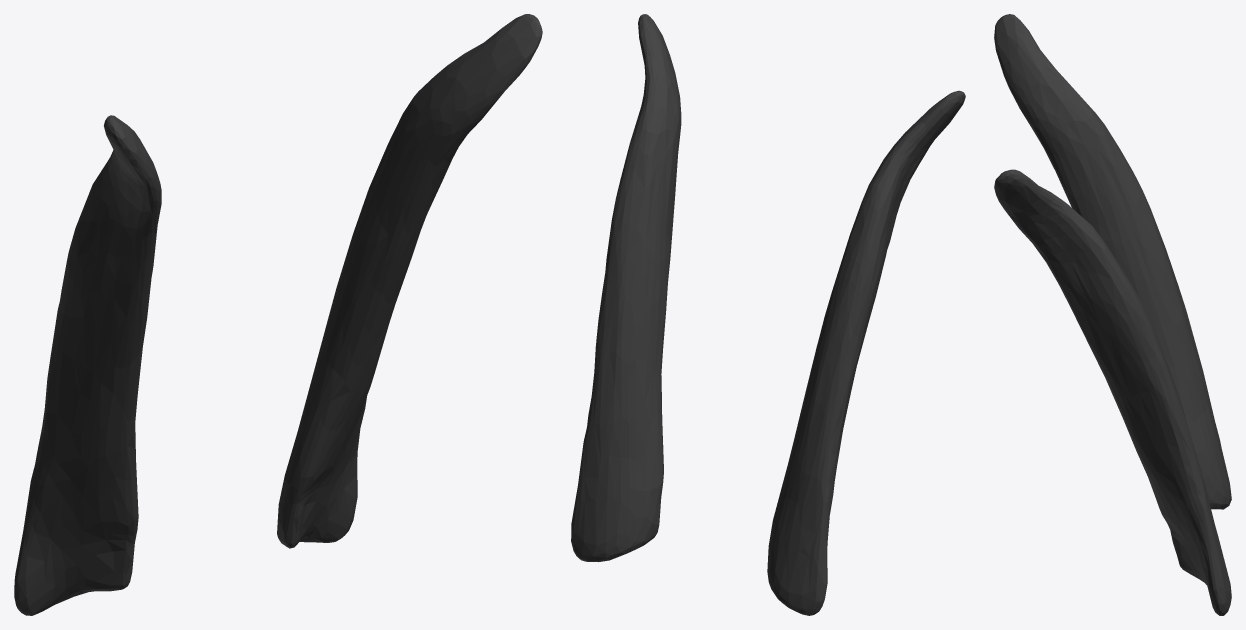
Rendered from m_semimembranosus_caud.glb.
The picture shows the model from 3 angles, left to right: view 1: azimuth 30°, elevation 25°; view 2: azimuth 150°, elevation 25°; view 3: azimuth 270°, elevation 25°; orthographic projection. The views are drawn at different scales.
Parts seen in each view (by area): view 1: m_semimembranosus_caud; view 2: m_semimembranosus_caud; view 3: m_semimembranosus_caud.
Part boxes in pixels (x1,y1,x2,y2): m_semimembranosus_caud: (14, 14, 542, 615); m_semimembranosus_caud: (571, 14, 965, 615); m_semimembranosus_caud: (994, 14, 1231, 615).
Size of the model in its own units: 0.00386 by 0.00525 by 0.00243.
1 material, 1 textured.
